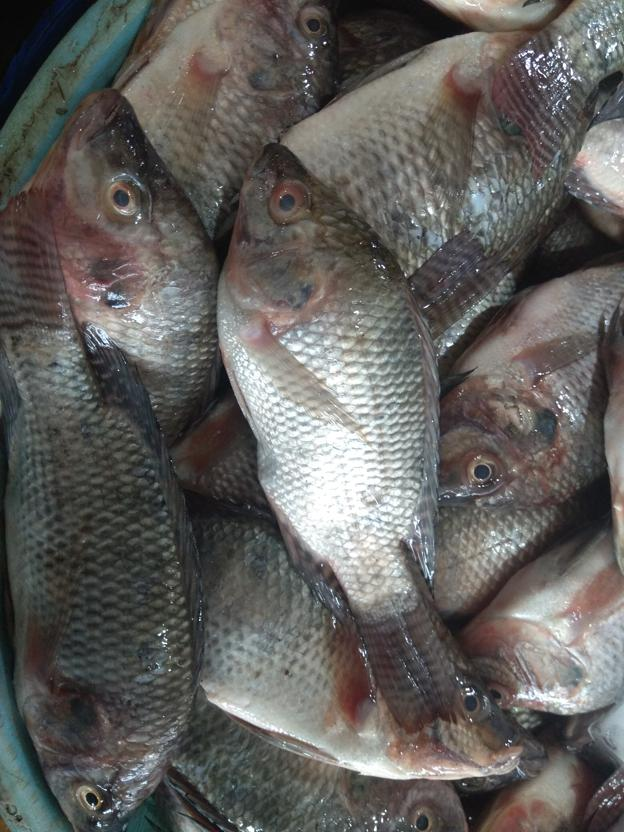Fish head: (56, 86, 218, 305), (216, 141, 383, 324), (351, 631, 522, 779), (24, 688, 192, 830), (437, 372, 558, 507), (451, 616, 592, 717), (206, 1, 331, 101)
Fish tail: (478, 24, 599, 172), (405, 227, 516, 345), (1, 188, 78, 335), (363, 777, 474, 831)
